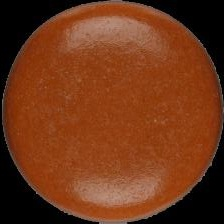64725-0304: (0, 0, 224, 224)
